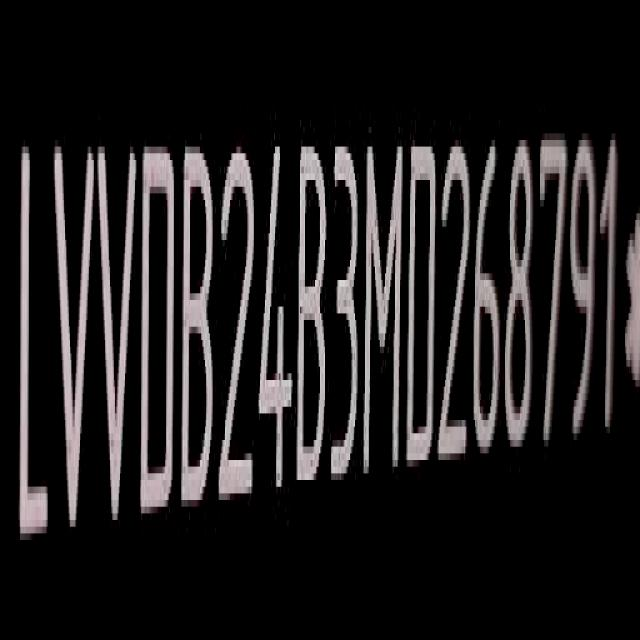1: (600, 128, 620, 447)
2: (219, 146, 257, 517), (440, 142, 470, 473)
3: (334, 146, 364, 488)
4: (258, 147, 294, 505)
6: (473, 141, 503, 463)
7: (538, 128, 568, 454)
8: (507, 140, 535, 459)
9: (568, 132, 596, 451)
B: (184, 143, 218, 520), (299, 142, 331, 494)
D: (139, 140, 175, 525), (408, 140, 438, 473)
L: (14, 131, 50, 555)
M: (366, 138, 407, 484)
V: (50, 135, 93, 546), (97, 139, 139, 538)
